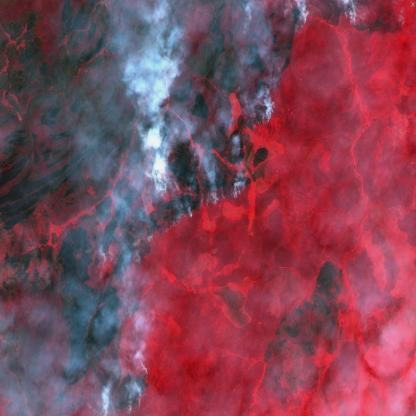fire: (87, 155, 252, 416), (237, 0, 361, 125)
